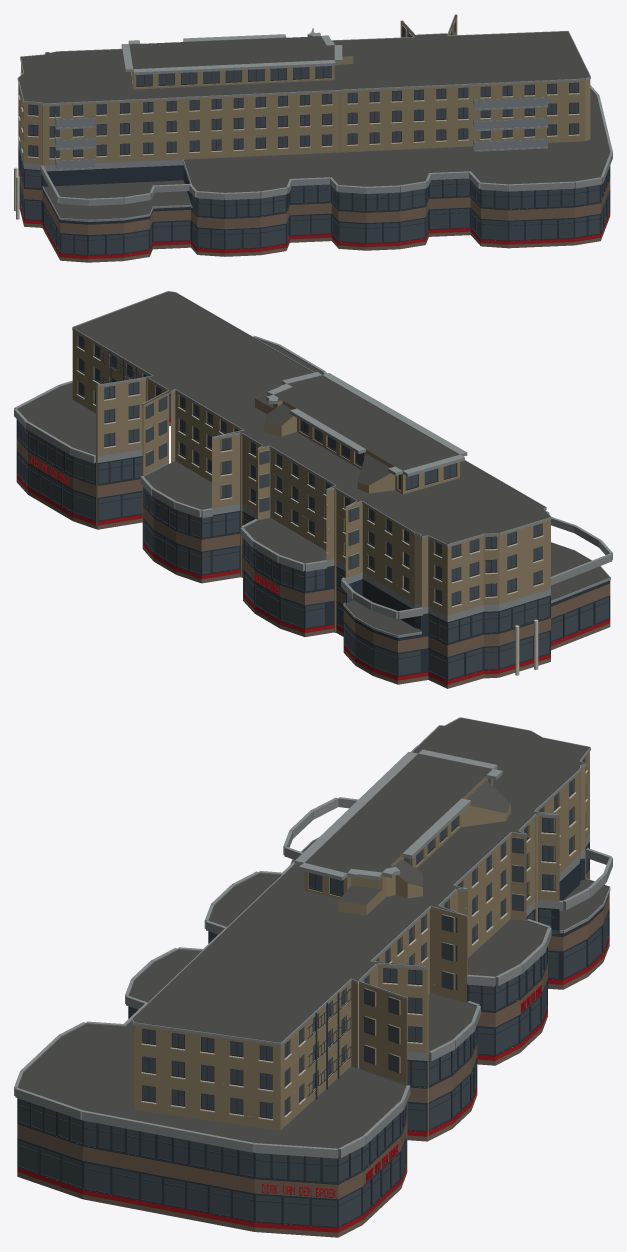
The model's file is tweede-hugo-de-grootstraat-43.glb.
3 views of the same model, one above another, from view 1: azimuth 30°, elevation 25°; view 2: azimuth 150°, elevation 25°; view 3: azimuth 270°, elevation 25° (orthographic). The views are drawn at different scales.
Parts seen in each view (by area): view 1: tweede-hugo-de-grootstraat-43; view 2: tweede-hugo-de-grootstraat-43; view 3: tweede-hugo-de-grootstraat-43.
Part boxes in pixels (box(x1,y1,x2,y2)): tweede-hugo-de-grootstraat-43: box(14, 14, 612, 262); tweede-hugo-de-grootstraat-43: box(14, 291, 612, 688); tweede-hugo-de-grootstraat-43: box(14, 717, 612, 1237).
Bounding box in the file's own units: 71 × 19.05 × 50.9.
